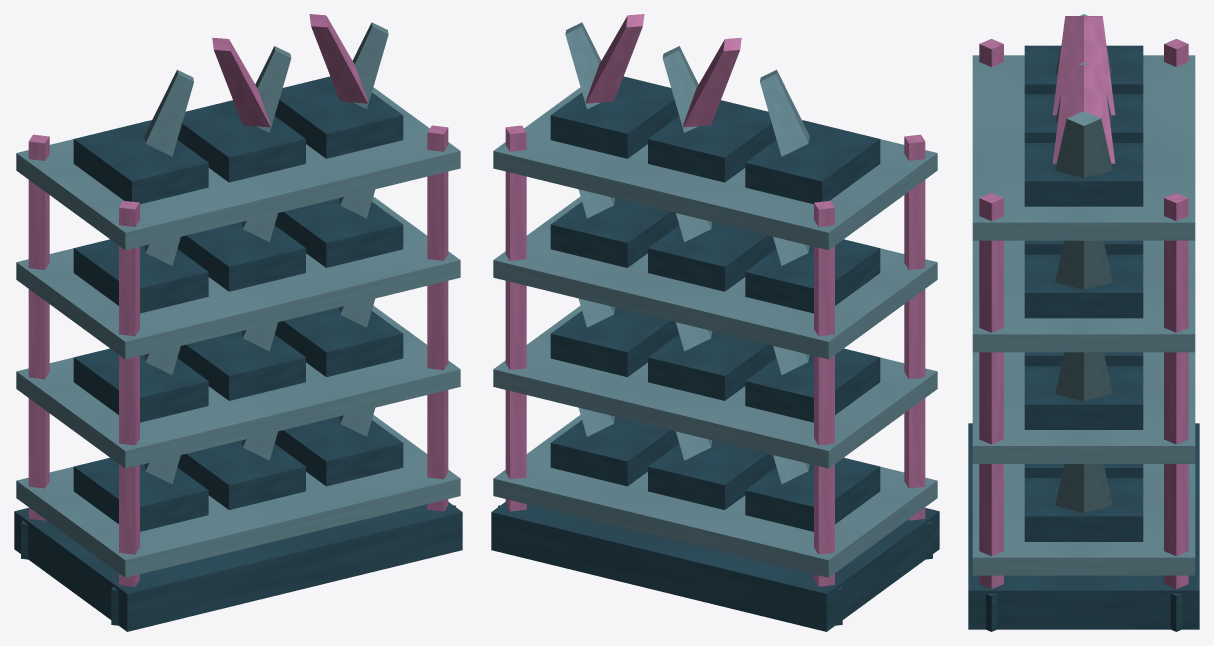
Rendered from atlas100-s062-a02.lod2.glb.
The picture shows the model from 3 angles, left to right: view 1: azimuth 30°, elevation 25°; view 2: azimuth 150°, elevation 25°; view 3: azimuth 270°, elevation 25°; orthographic projection. The views are drawn at different scales.
Parts seen in each view (by area): view 1: atlas100-s062-a02:part-000, atlas100-s062-a02:part-041, atlas100-s062-a02:part-031, atlas100-s062-a02:part-021, atlas100-s062-a02:part-011, atlas100-s062-a02:part-042, atlas100-s062-a02:part-048, atlas100-s062-a02:part-045, atlas100-s062-a02:part-009, atlas100-s062-a02:part-005, atlas100-s062-a02:part-003, atlas100-s062-a02:part-028 (+22 smaller); view 2: atlas100-s062-a02:part-000, atlas100-s062-a02:part-041, atlas100-s062-a02:part-031, atlas100-s062-a02:part-021, atlas100-s062-a02:part-011, atlas100-s062-a02:part-042, atlas100-s062-a02:part-048, atlas100-s062-a02:part-045, atlas100-s062-a02:part-007, atlas100-s062-a02:part-003, atlas100-s062-a02:part-005, atlas100-s062-a02:part-028 (+22 smaller); view 3: atlas100-s062-a02:part-041, atlas100-s062-a02:part-000, atlas100-s062-a02:part-031, atlas100-s062-a02:part-011, atlas100-s062-a02:part-021, atlas100-s062-a02:part-007, atlas100-s062-a02:part-009, atlas100-s062-a02:part-038, atlas100-s062-a02:part-018, atlas100-s062-a02:part-028, atlas100-s062-a02:part-048, atlas100-s062-a02:part-042 (+14 smaller).
Part boxes in pixels (<box>): atlas100-s062-a02:part-000: <box>14,502,462,631</box>; atlas100-s062-a02:part-041: <box>16,87,460,250</box>; atlas100-s062-a02:part-031: <box>16,196,460,359</box>; atlas100-s062-a02:part-021: <box>16,305,460,468</box>; atlas100-s062-a02:part-011: <box>16,415,460,577</box>; atlas100-s062-a02:part-042: <box>73,120,208,204</box>; atlas100-s062-a02:part-048: <box>274,76,403,158</box>; atlas100-s062-a02:part-045: <box>177,100,305,182</box>; atlas100-s062-a02:part-009: <box>427,125,448,511</box>; atlas100-s062-a02:part-005: <box>119,200,139,586</box>; atlas100-s062-a02:part-003: <box>28,134,49,520</box>; atlas100-s062-a02:part-028: <box>274,307,403,376</box>; atlas100-s062-a02:part-000: <box>491,502,939,631</box>; atlas100-s062-a02:part-041: <box>493,87,937,250</box>; atlas100-s062-a02:part-031: <box>493,196,937,359</box>; atlas100-s062-a02:part-021: <box>493,305,937,468</box>; atlas100-s062-a02:part-011: <box>493,415,937,577</box>; atlas100-s062-a02:part-042: <box>745,120,880,204</box>; atlas100-s062-a02:part-048: <box>550,76,679,158</box>; atlas100-s062-a02:part-045: <box>648,100,776,182</box>; atlas100-s062-a02:part-007: <box>505,125,526,511</box>; atlas100-s062-a02:part-003: <box>814,200,834,586</box>; atlas100-s062-a02:part-005: <box>904,134,925,520</box>; atlas100-s062-a02:part-028: <box>550,307,679,376</box>; atlas100-s062-a02:part-041: <box>972,55,1195,240</box>; atlas100-s062-a02:part-000: <box>968,423,1199,629</box>; atlas100-s062-a02:part-031: <box>972,240,1195,352</box>; atlas100-s062-a02:part-011: <box>972,464,1195,575</box>; atlas100-s062-a02:part-021: <box>972,352,1195,463</box>; atlas100-s062-a02:part-007: <box>1164,193,1188,588</box>; atlas100-s062-a02:part-009: <box>979,193,1003,588</box>; atlas100-s062-a02:part-038: <box>1024,254,1143,318</box>; atlas100-s062-a02:part-018: <box>1024,478,1143,541</box>; atlas100-s062-a02:part-028: <box>1024,366,1143,429</box>; atlas100-s062-a02:part-048: <box>1024,143,1143,206</box>; atlas100-s062-a02:part-042: <box>1024,45,1143,94</box>.
Size of the model in its own units: 2.47 by 3.51 by 1.4.
3 materials, 3 textured.
